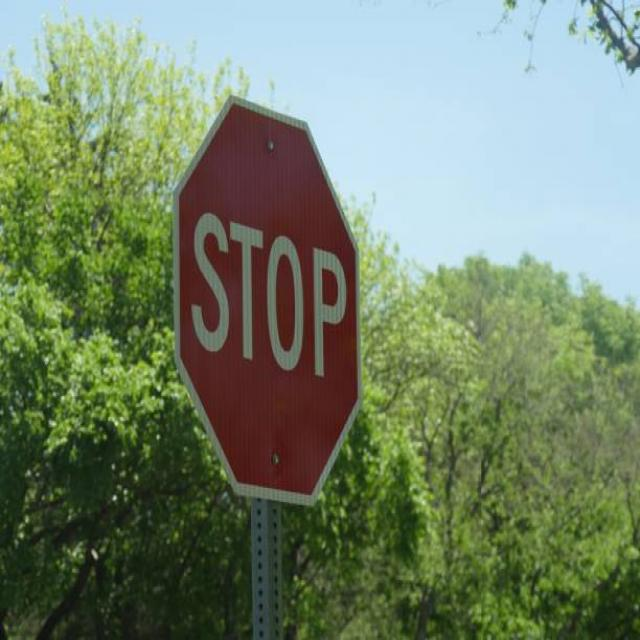stop: (160, 90, 378, 518)
